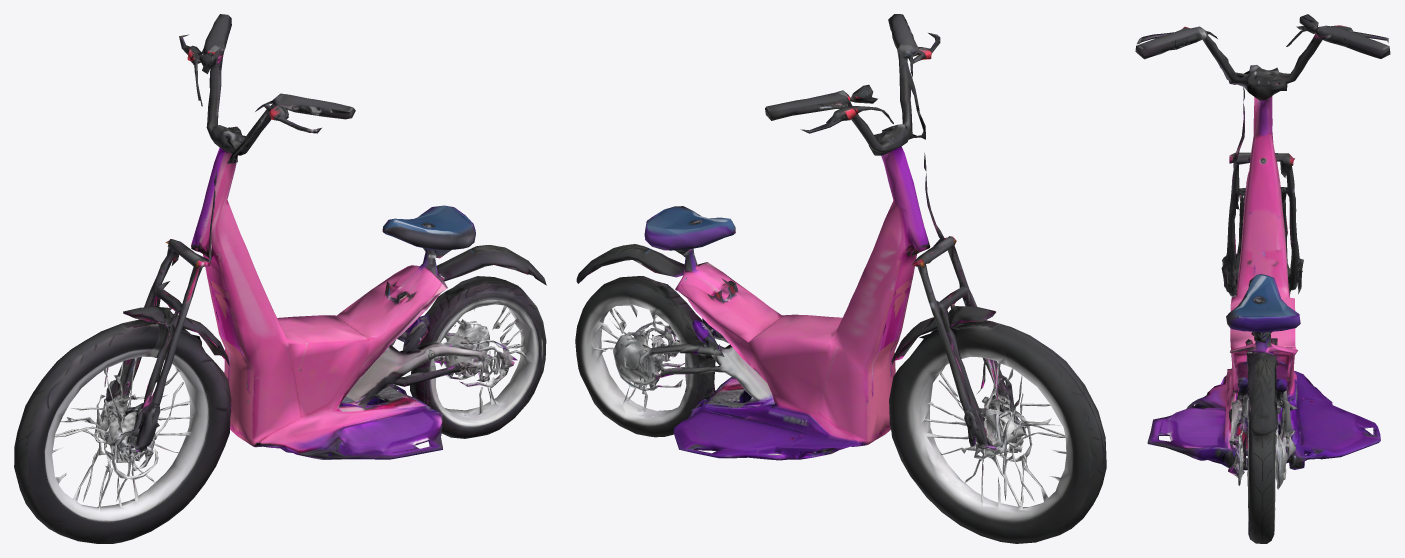
File: Bicineta.glb
3 views of the same model, side by side, from view 1: azimuth 30°, elevation 25°; view 2: azimuth 150°, elevation 25°; view 3: azimuth 270°, elevation 25° (orthographic). The views are drawn at different scales.
Size of the model in its own units: 2 by 1.61 by 0.8748.
1 material, 1 textured.
